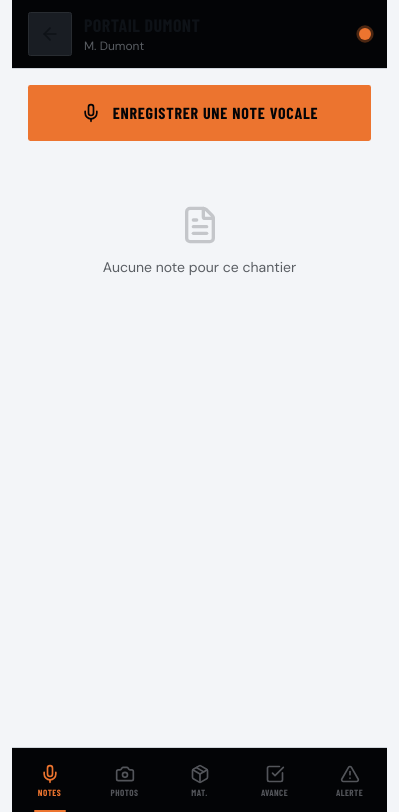
Test case: Alertes terrain — bouton d'alerte rapide › Onglet Problème (page projet) — soumission réelle › soumet et affiche la confirmation
This screenshot has width=399, height=812.
Click the button with test id "tab-probleme".
click(350, 780)  # box [312, 748, 387, 811]
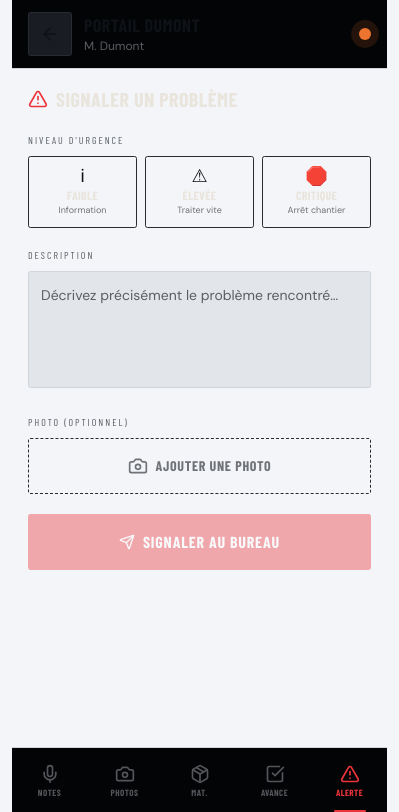
Click the button with test id "urgency-elevee".
click(200, 192)  # box [145, 156, 254, 228]
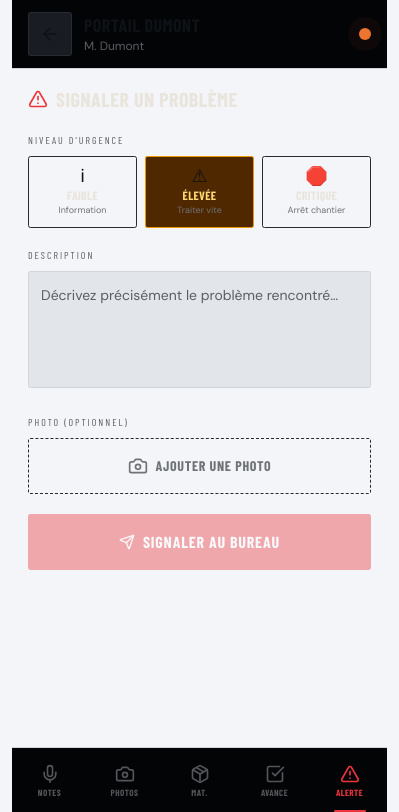
Type "Fissure dans la soudure" into the text box with test id "probleme-description".
click(200, 330); type("Fissure dans la soudure")  # box [28, 271, 371, 388]
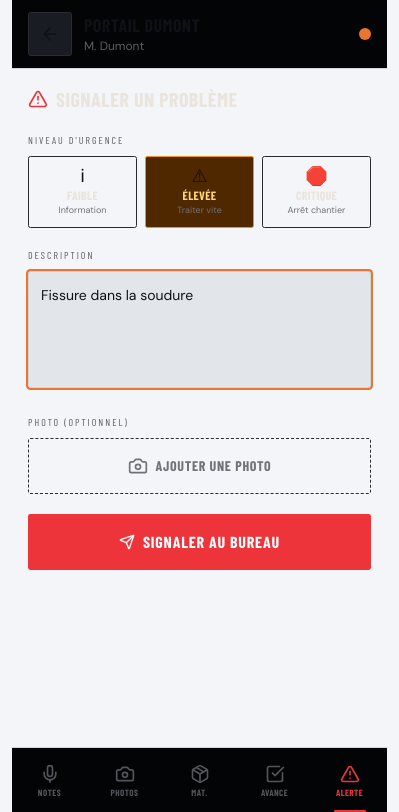
Click the button with test id "submit-probleme".
click(200, 542)  # box [28, 514, 371, 570]
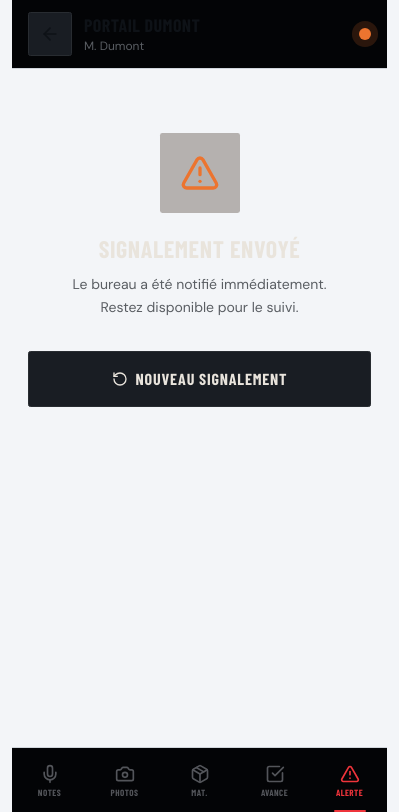
Expected: the heading "Signalement envoyé" is shown, [99, 233, 300, 265]
